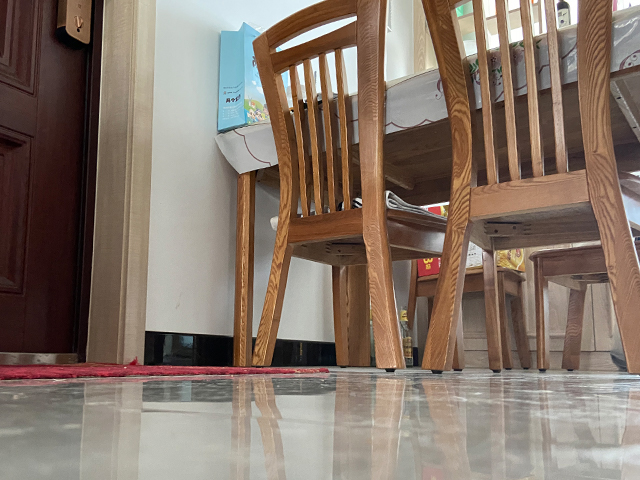carpet: (1, 362, 330, 379)
stool: (420, 1, 640, 375), (250, 1, 447, 373), (405, 257, 531, 372), (530, 243, 609, 373)
table: (216, 4, 640, 375)
